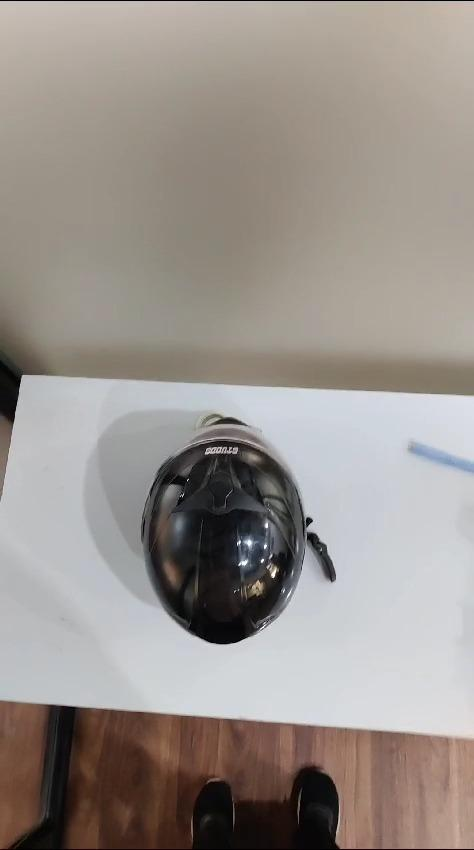Helmet: (141, 414, 308, 642)
